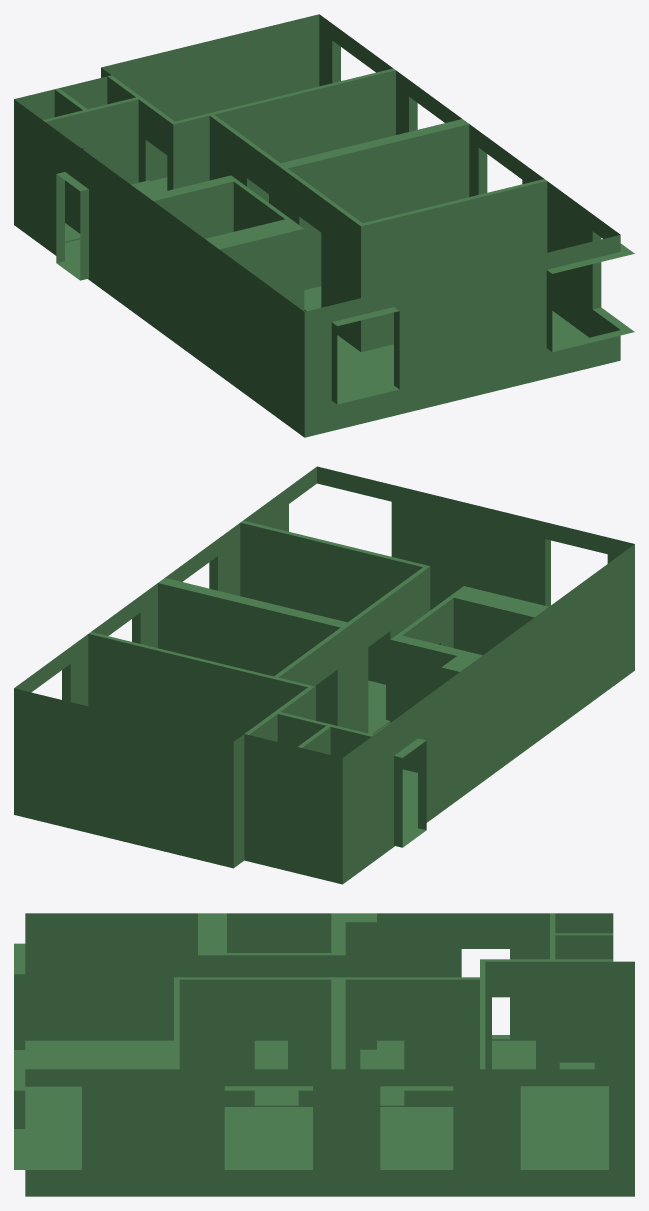
File: Rooms_A_1_3_27.FBX
The picture shows the model from 3 angles, top to bottom: view 1: azimuth 30°, elevation 25°; view 2: azimuth 150°, elevation 25°; view 3: azimuth 270°, elevation 25°; orthographic projection.
Parts seen in each view (by area): view 1: Rooms_A_1_3_27; view 2: Rooms_A_1_3_27; view 3: Rooms_A_1_3_27.
Part boxes in pixels (x1,y1,x2,y2): Rooms_A_1_3_27: (14, 14, 634, 437); Rooms_A_1_3_27: (14, 466, 634, 884); Rooms_A_1_3_27: (14, 913, 634, 1196).
Bounding box in the file's own units: 7.76 × 2.8 × 12.37.
